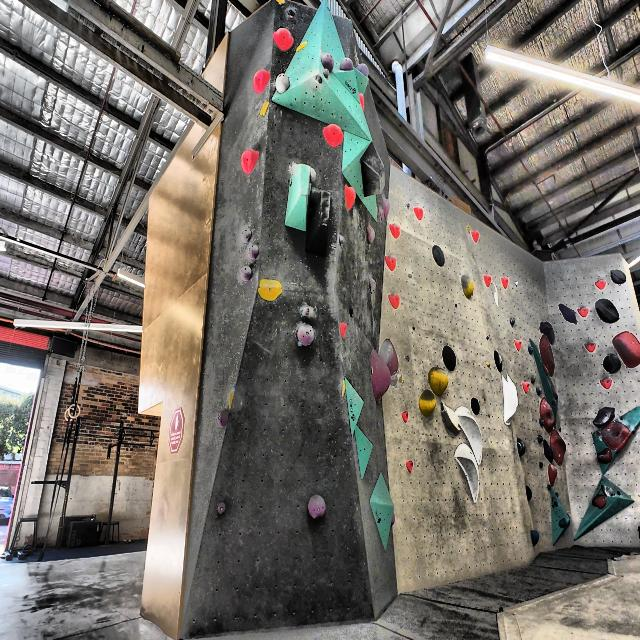Hold: (308, 185, 335, 262), (455, 402, 485, 462), (453, 446, 483, 504), (610, 328, 640, 370), (368, 349, 389, 404), (502, 367, 520, 431), (600, 423, 632, 452), (380, 335, 405, 369), (319, 118, 343, 150), (237, 148, 262, 178), (538, 335, 556, 376), (595, 298, 621, 326), (258, 277, 287, 302), (536, 396, 556, 432), (270, 23, 292, 53), (592, 404, 618, 429), (431, 360, 448, 396), (309, 492, 327, 524), (551, 430, 567, 466), (252, 69, 274, 95), (441, 340, 457, 374), (418, 389, 437, 416), (295, 326, 318, 348), (557, 301, 577, 325), (224, 385, 243, 409), (458, 274, 477, 298), (539, 318, 554, 343), (604, 353, 621, 375), (366, 224, 381, 247), (428, 247, 446, 266), (343, 184, 354, 214), (320, 50, 335, 72), (276, 73, 291, 95), (543, 436, 555, 463), (609, 265, 626, 284), (353, 90, 368, 111), (384, 250, 398, 272), (217, 408, 231, 429), (386, 293, 402, 311), (596, 448, 614, 464), (382, 194, 392, 222), (240, 227, 254, 246), (548, 463, 558, 488), (246, 242, 261, 258), (388, 220, 400, 240), (340, 55, 355, 71), (576, 304, 591, 320), (300, 304, 316, 318), (308, 162, 318, 182), (515, 436, 525, 456), (259, 101, 270, 119), (492, 346, 501, 368), (295, 40, 309, 54), (358, 60, 371, 75), (368, 277, 380, 293), (548, 383, 560, 399), (525, 484, 534, 505), (530, 527, 539, 548), (583, 340, 597, 353), (598, 376, 612, 389), (339, 320, 349, 338), (470, 394, 479, 414), (513, 336, 523, 354), (520, 378, 530, 396), (591, 496, 606, 508), (390, 510, 399, 530), (413, 208, 427, 220), (594, 278, 606, 292), (239, 267, 252, 279), (502, 275, 511, 292), (405, 458, 414, 475), (482, 272, 492, 287), (216, 500, 226, 514), (402, 409, 410, 425), (472, 230, 480, 243), (536, 383, 544, 396), (390, 376, 400, 386), (286, 8, 296, 17), (314, 73, 322, 84), (274, 0, 288, 6), (560, 518, 568, 528), (537, 434, 545, 444), (510, 315, 516, 326), (531, 376, 538, 385), (538, 461, 544, 471), (550, 400, 558, 404), (548, 484, 552, 490)
